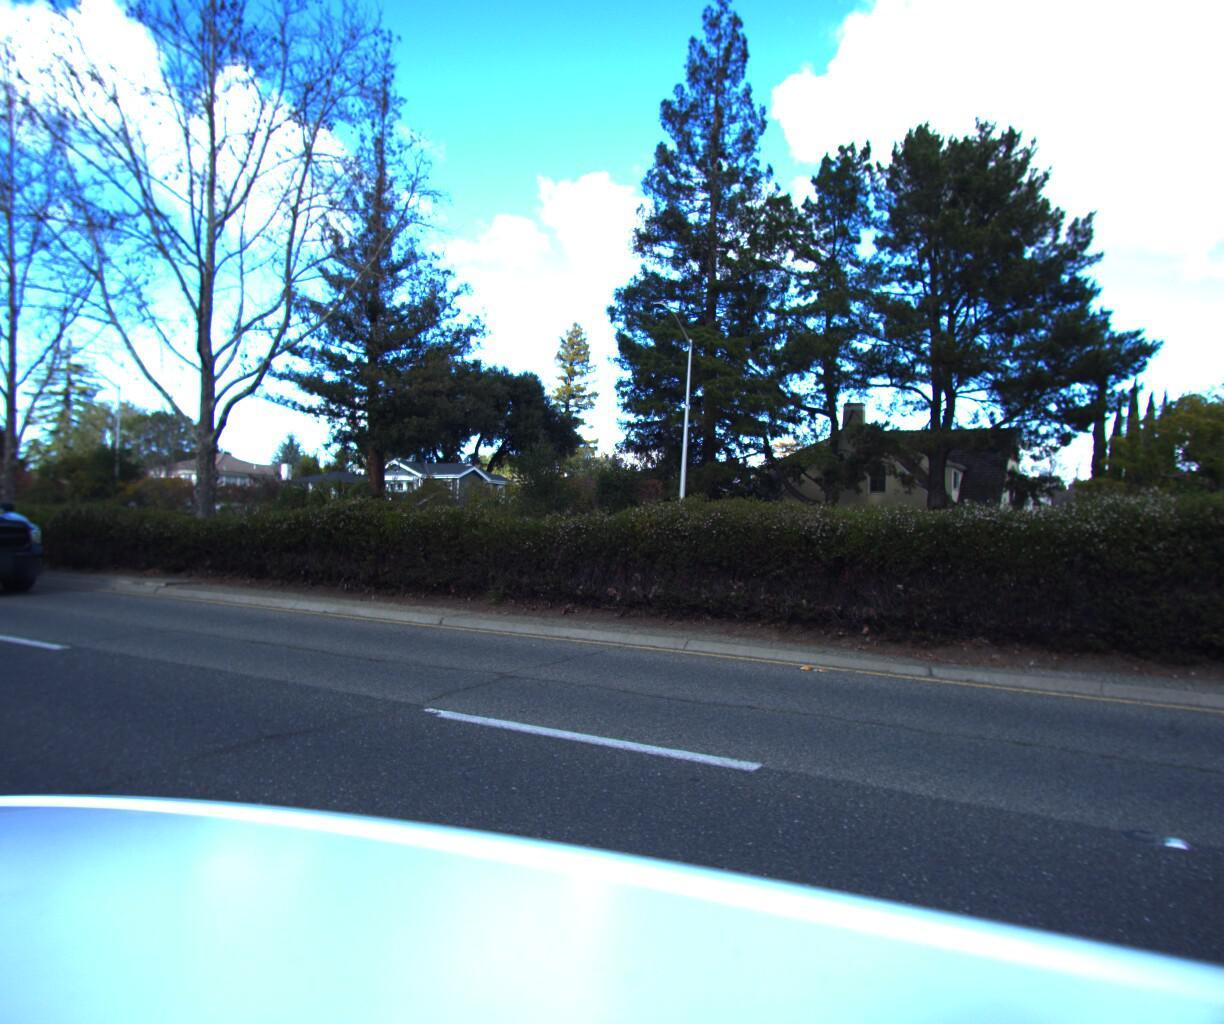car: (0, 460, 50, 610)
